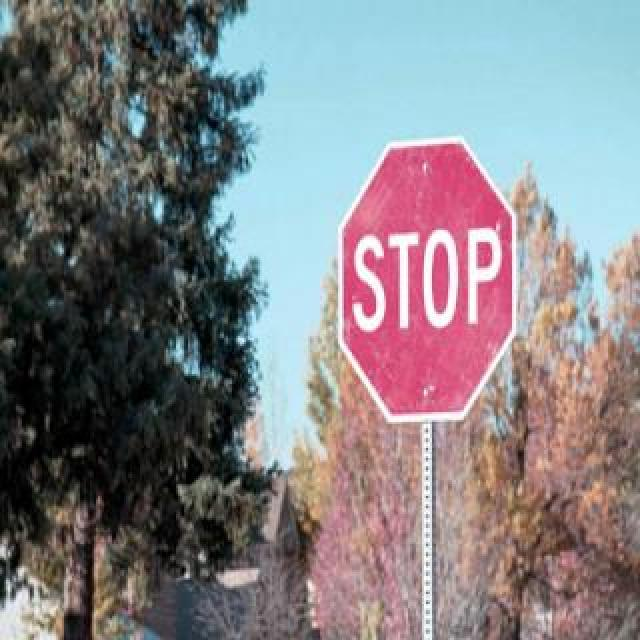stop: (334, 132, 518, 420)
